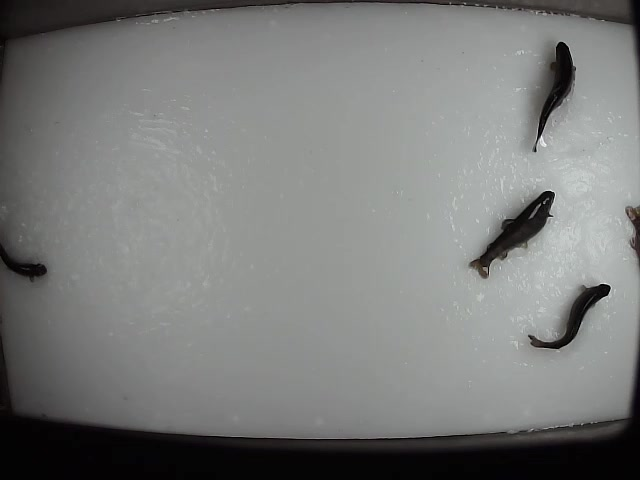Fish: (468, 190, 556, 280), (528, 283, 611, 349), (532, 41, 576, 153)
